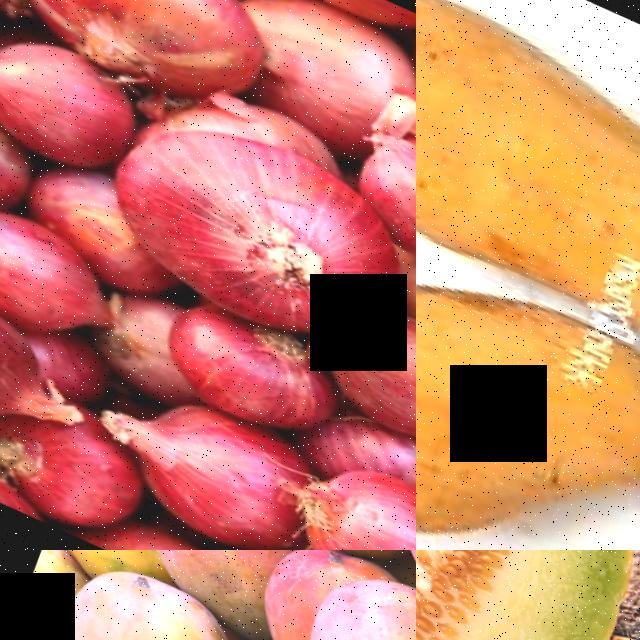mango: (416, 173, 640, 550), (416, 0, 640, 362), (40, 550, 217, 640), (274, 550, 416, 640), (121, 550, 298, 612)
melon: (416, 550, 640, 640), (416, 550, 512, 640)
onion: (76, 79, 416, 366), (0, 0, 289, 123), (117, 381, 320, 550), (141, 285, 343, 447), (241, 0, 416, 153), (0, 16, 146, 183), (0, 389, 152, 545), (0, 189, 124, 354), (318, 290, 416, 456), (282, 439, 416, 550), (335, 107, 416, 274), (0, 268, 59, 445)
